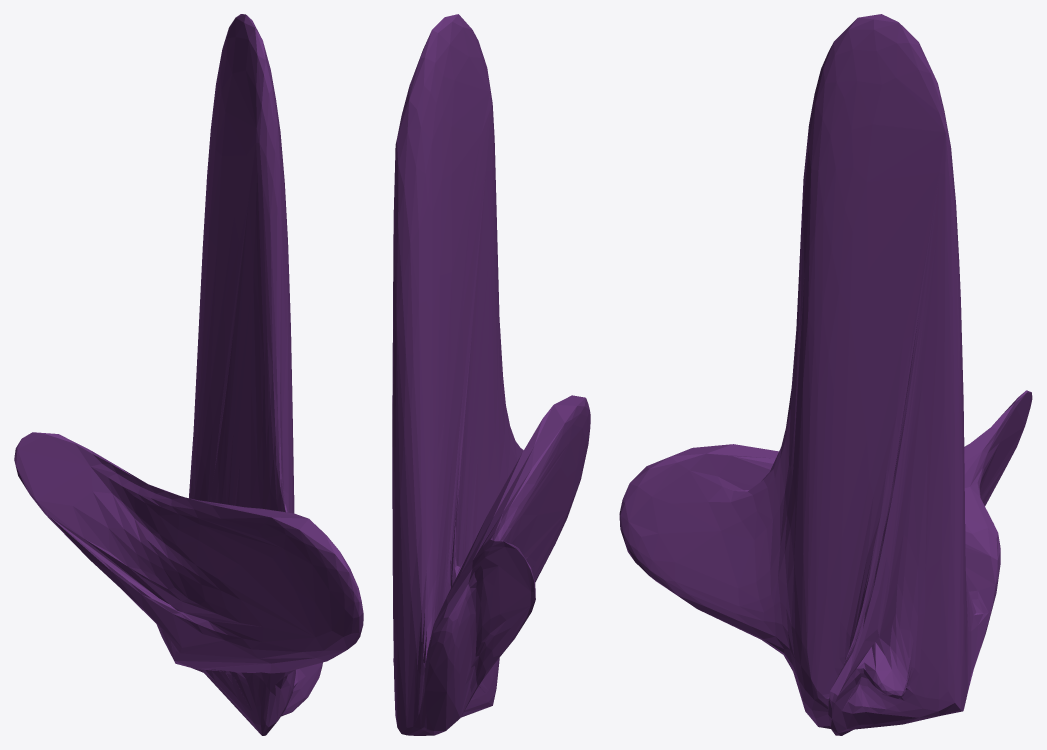
The picture shows the model from 3 angles, left to right: view 1: azimuth 30°, elevation 25°; view 2: azimuth 150°, elevation 25°; view 3: azimuth 270°, elevation 25°; orthographic projection. The views are drawn at different scales.
Visible parts, largest first — view 1: 859_Cube.3473; view 2: 859_Cube.3473; view 3: 859_Cube.3473.
Boxes of the visible parts, box(x1,y1,x2,y2) form: 859_Cube.3473: box(14, 14, 363, 735); 859_Cube.3473: box(392, 14, 590, 735); 859_Cube.3473: box(619, 14, 1032, 735).
Bounding box in the file's own units: 3.69 × 11.5 × 5.99.
